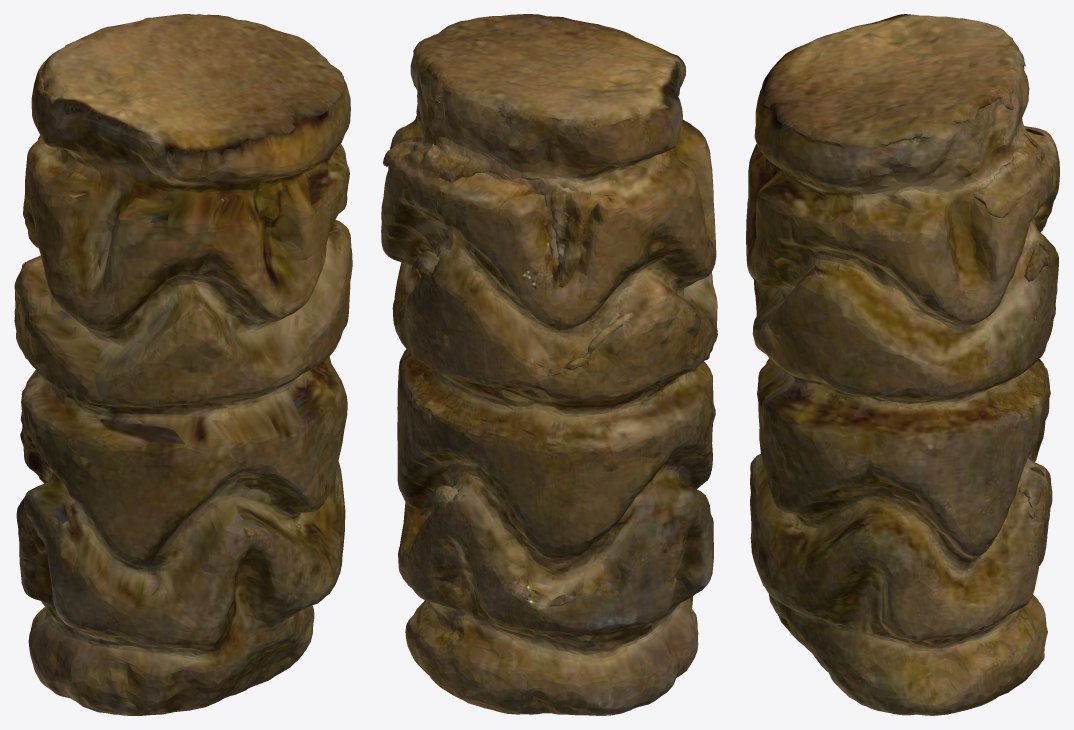
Rendered from SAS-187-11.fbx.
3 views of the same model, side by side, from view 1: azimuth 30°, elevation 25°; view 2: azimuth 150°, elevation 25°; view 3: azimuth 270°, elevation 25° (orthographic).
Parts seen in each view (by area): view 1: SAS-187-11_JL_2017_G3D_LOD00; view 2: SAS-187-11_JL_2017_G3D_LOD00; view 3: SAS-187-11_JL_2017_G3D_LOD00.
Part boxes in pixels (box(x1,y1,x2,y2)): SAS-187-11_JL_2017_G3D_LOD00: box(14, 14, 352, 715); SAS-187-11_JL_2017_G3D_LOD00: box(381, 14, 717, 715); SAS-187-11_JL_2017_G3D_LOD00: box(746, 14, 1059, 715).
Size of what is drawn, in the model's own units: 27.12 by 53.3 by 24.72.
